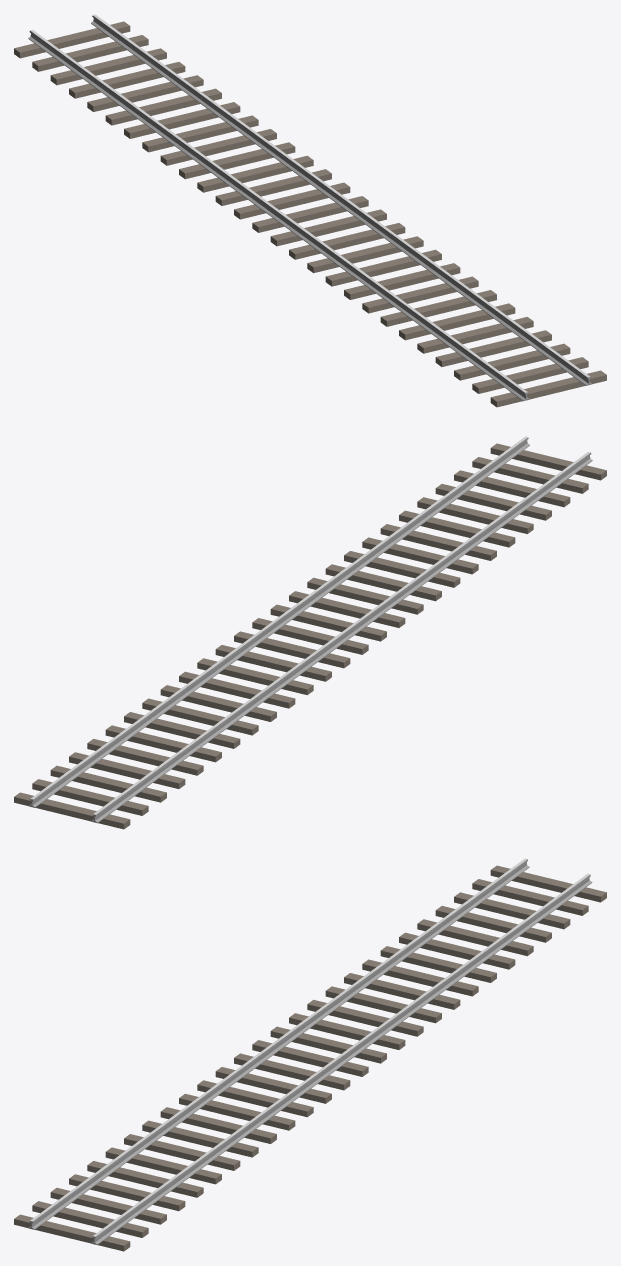
File: Rail1.fbx
The picture shows the model from 3 angles, top to bottom: view 1: azimuth 30°, elevation 25°; view 2: azimuth 150°, elevation 25°; view 3: azimuth 330°, elevation 25°; orthographic projection.
Parts seen in each view (by area): view 1: Layer_0; view 2: Layer_0; view 3: Layer_0.
Boxes of the visible parts, bbox=[...] form: Layer_0: bbox=[14, 14, 606, 407]; Layer_0: bbox=[14, 436, 606, 829]; Layer_0: bbox=[14, 858, 606, 1251].
Size of the model in its own units: 260 by 31 by 2025.
